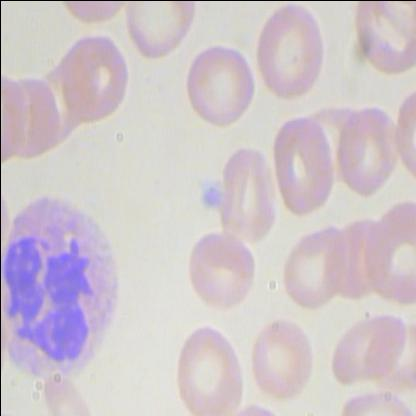Platelets: (199, 173, 223, 213)
RBC: (248, 1, 330, 107), (264, 114, 338, 215), (178, 40, 256, 134), (57, 26, 129, 127), (180, 228, 260, 316), (172, 321, 245, 415), (279, 219, 351, 310), (329, 310, 410, 390), (244, 315, 318, 402), (336, 104, 404, 198), (215, 145, 274, 242), (348, 1, 415, 79), (115, 1, 199, 62), (1, 67, 33, 171)
WBC: (1, 190, 130, 391)
